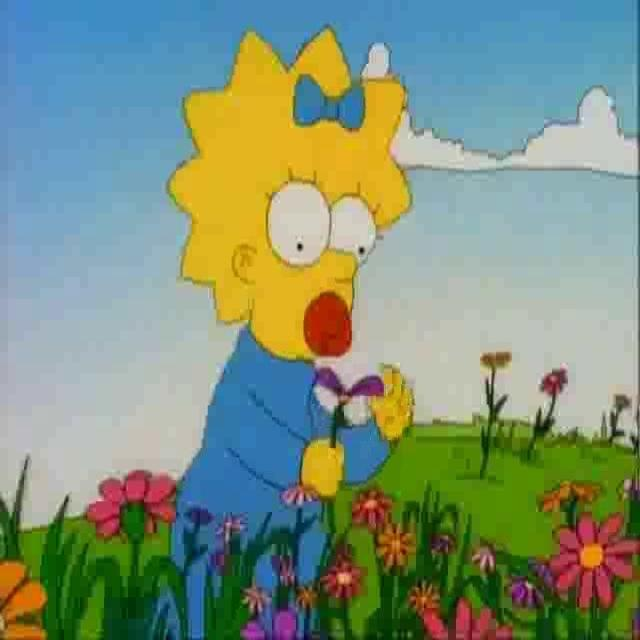Maggie Simpson: (166, 22, 414, 367)
